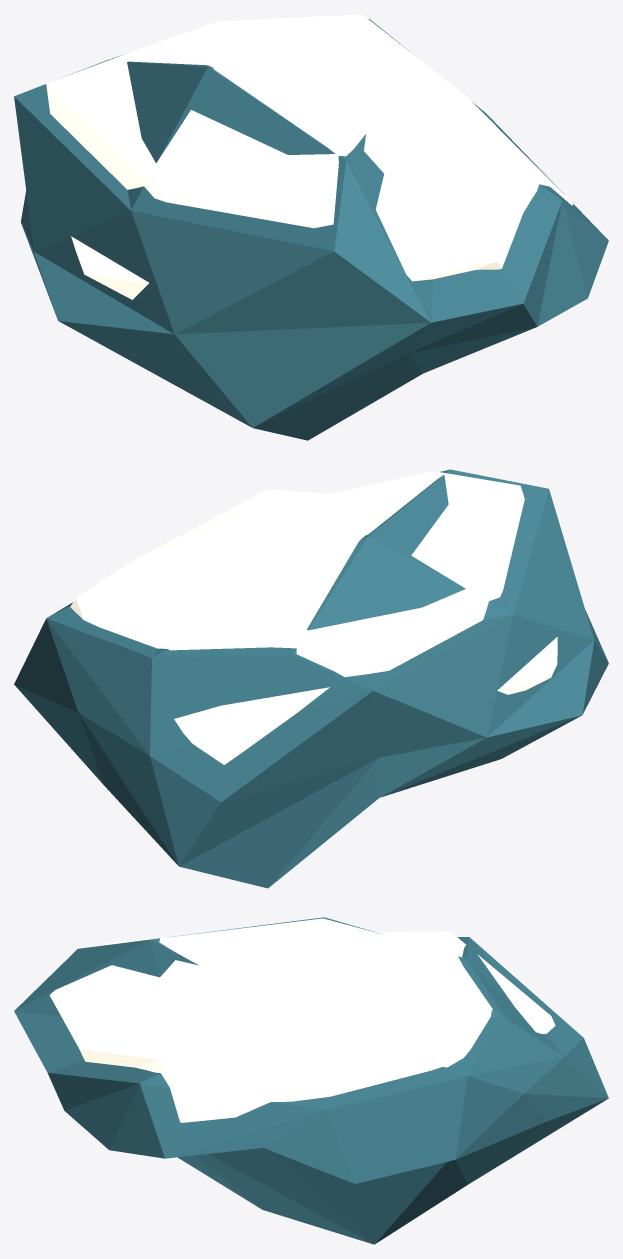
The model's file is RockAsset4.fbx.
3 renders of one model, top to bottom at view 1: azimuth 30°, elevation 25°; view 2: azimuth 150°, elevation 25°; view 3: azimuth 270°, elevation 25°, orthographic. The views are drawn at different scales.
Visible parts, largest first — view 1: Rock4; view 2: Rock4; view 3: Rock4.
Boxes of the visible parts, x1,y1,x2,y2 form: Rock4: [14, 14, 608, 440]; Rock4: [14, 469, 608, 888]; Rock4: [14, 917, 608, 1244].
Bounding box in the file's own units: 510 × 303 × 670.
